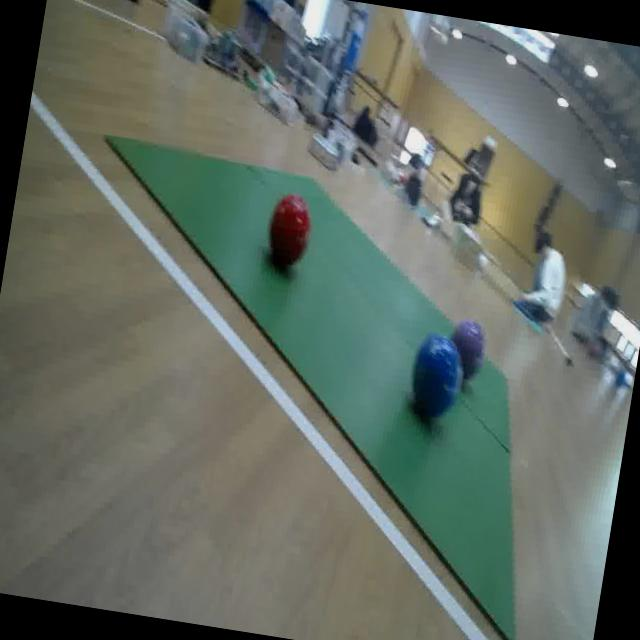blue_ball: (404, 328, 471, 431)
purple_ball: (446, 314, 491, 384)
red_ball: (262, 191, 318, 274)
